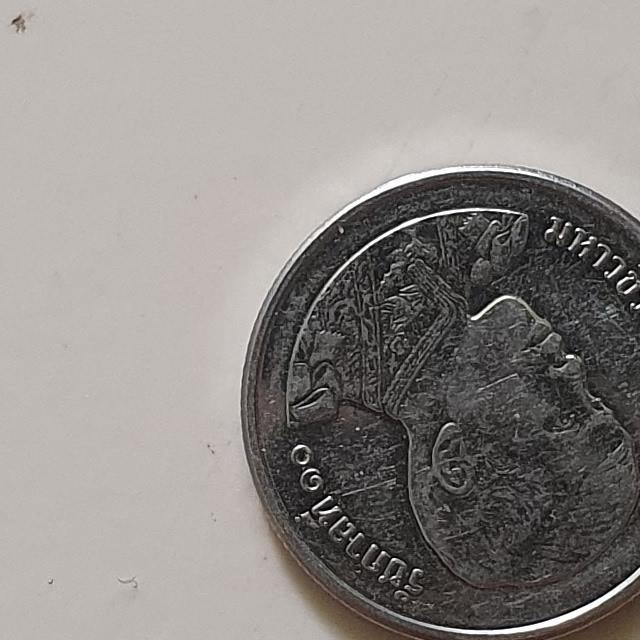1 Bath: (234, 152, 640, 640)
